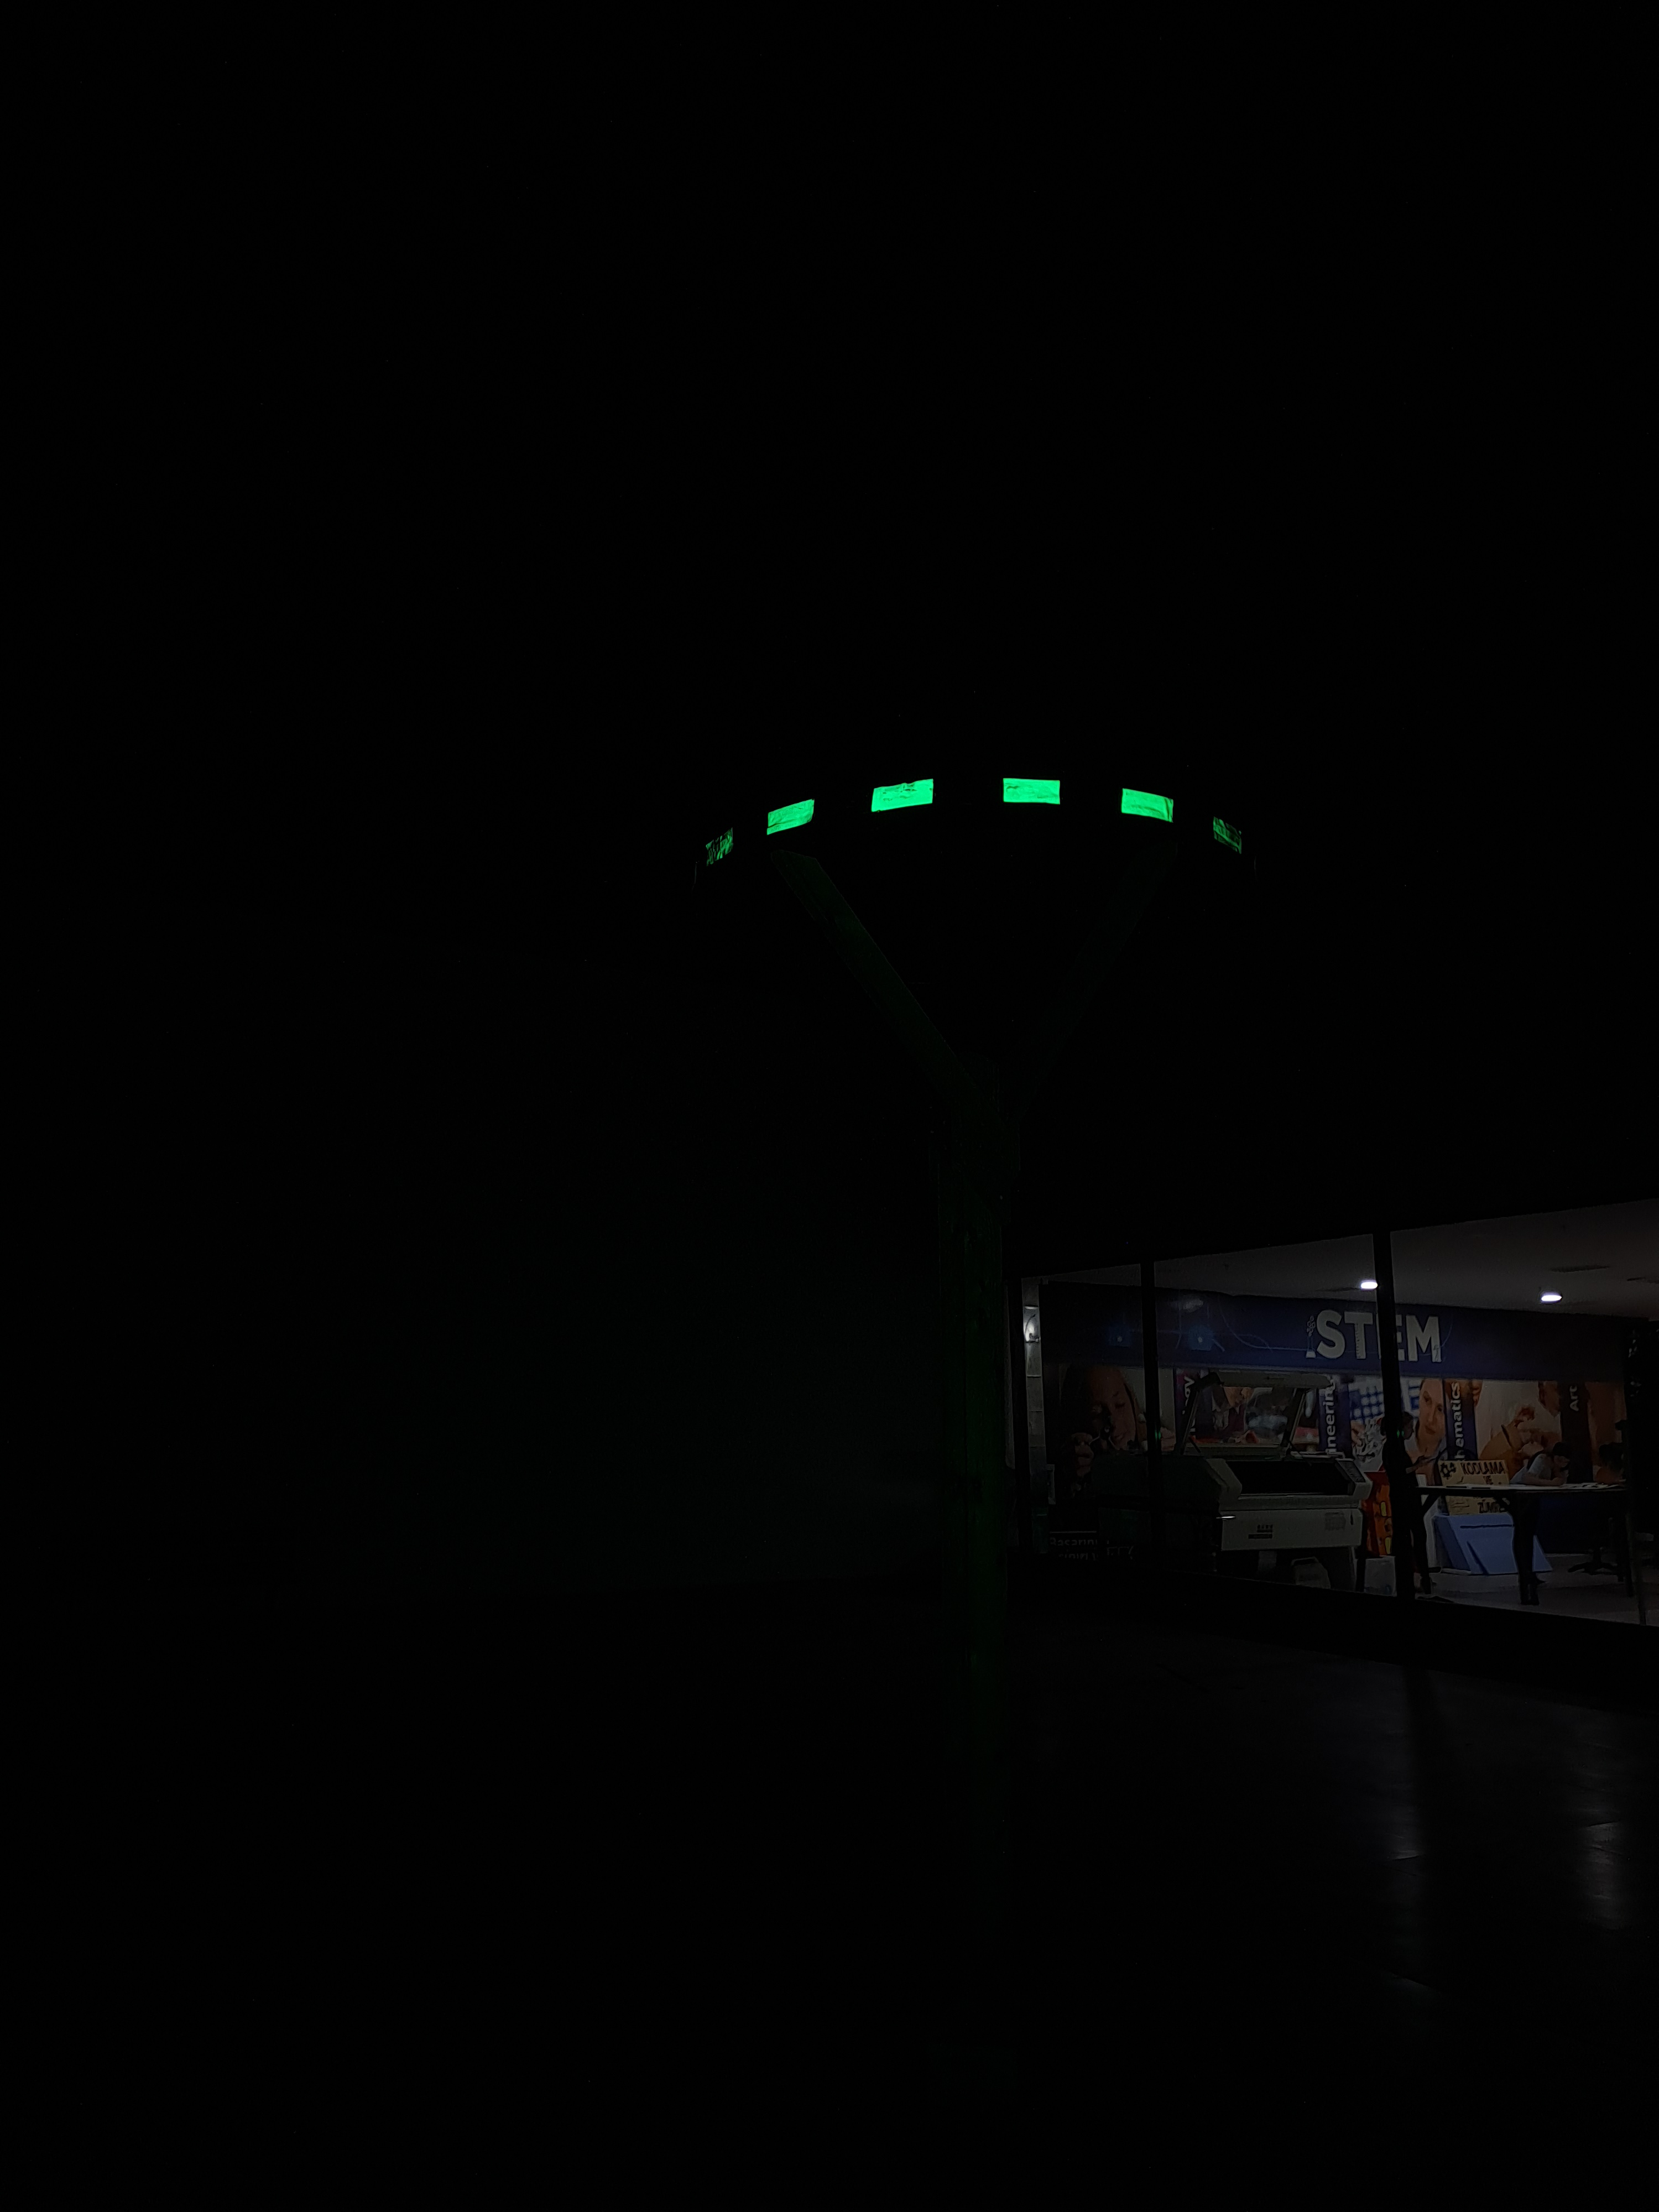hoop: (701, 773, 1249, 869)
